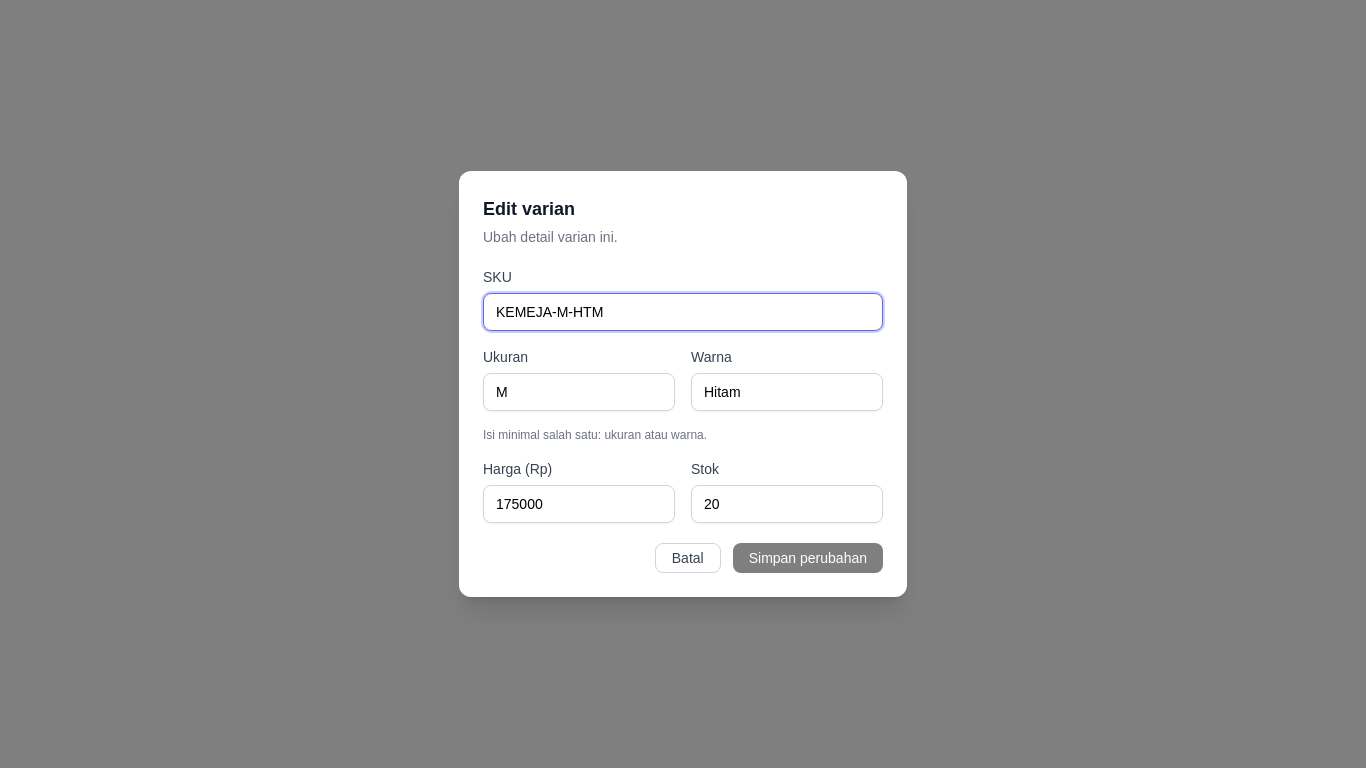
Test: VariantEditModal › Validasi Client-Side (Zod) › menampilkan error jika harga bernilai 0 atau negatif
This screenshot has width=1366, height=768.
Replace the text in the number field labelled "Harga (Rp)" with "0" at (579, 504), box [483,485,675,523]
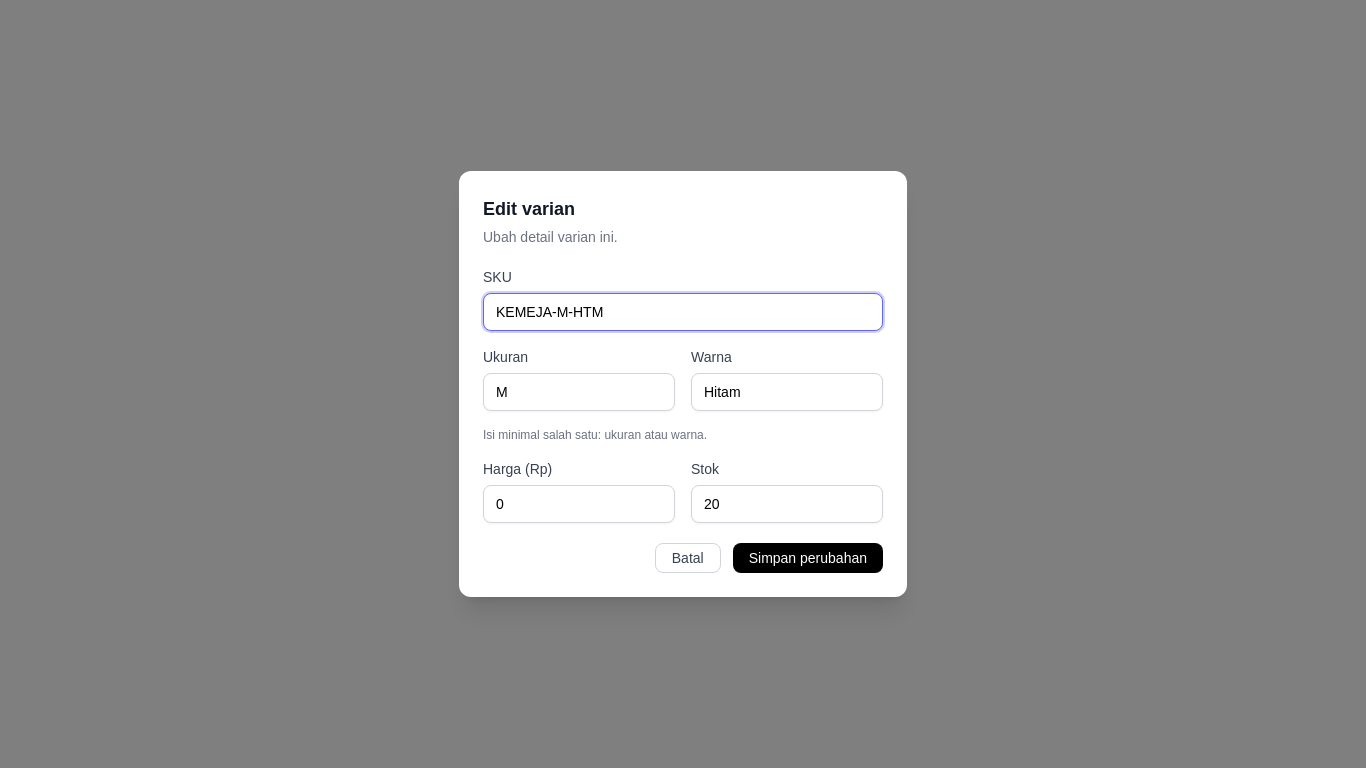
Click the button "Simpan perubahan" at (808, 558), box [733,543,883,573]
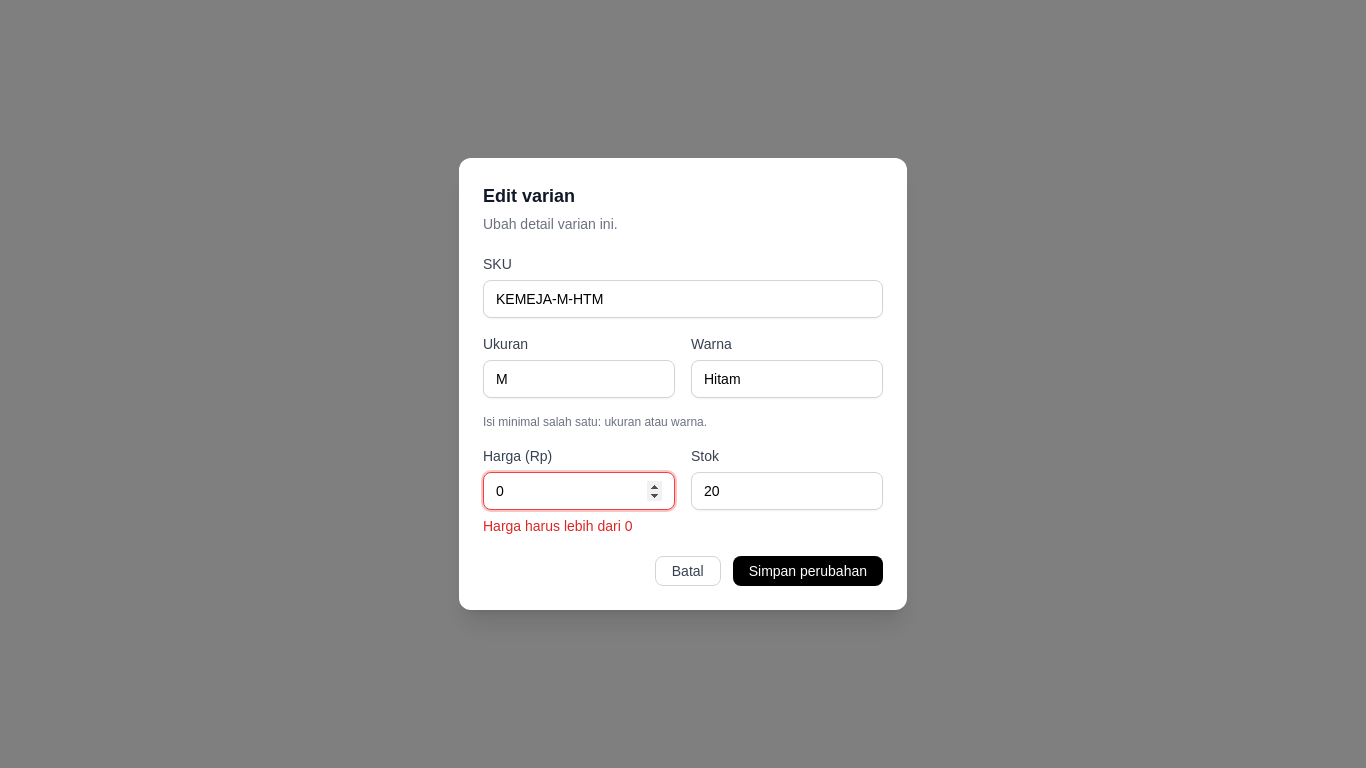
Check: the text "Harga harus lebih dari 0" is shown, box [483,518,632,534]
